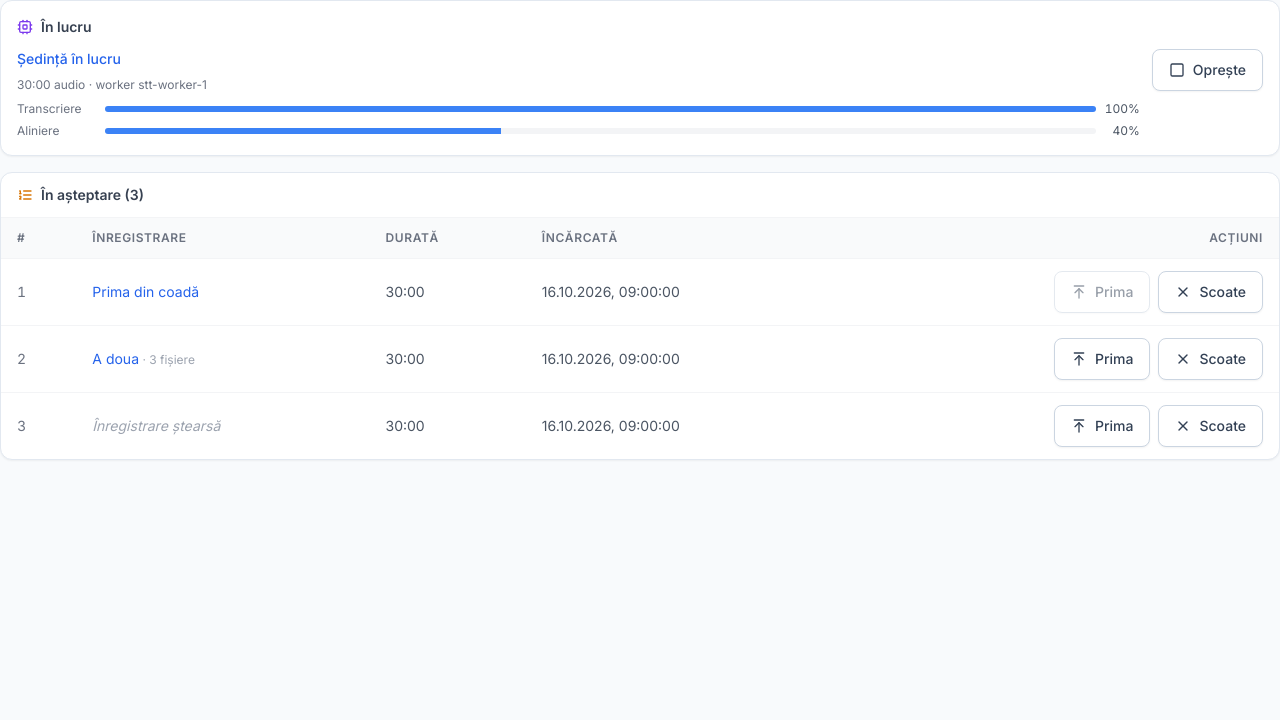
Scenario: QueuePanel › oprește transcrierea în curs după confirmare
What coordinates should you click on to do the following:
click the button "Oprește"
I would click on:
 (1207, 70)
Its box is [1152,49,1263,91].
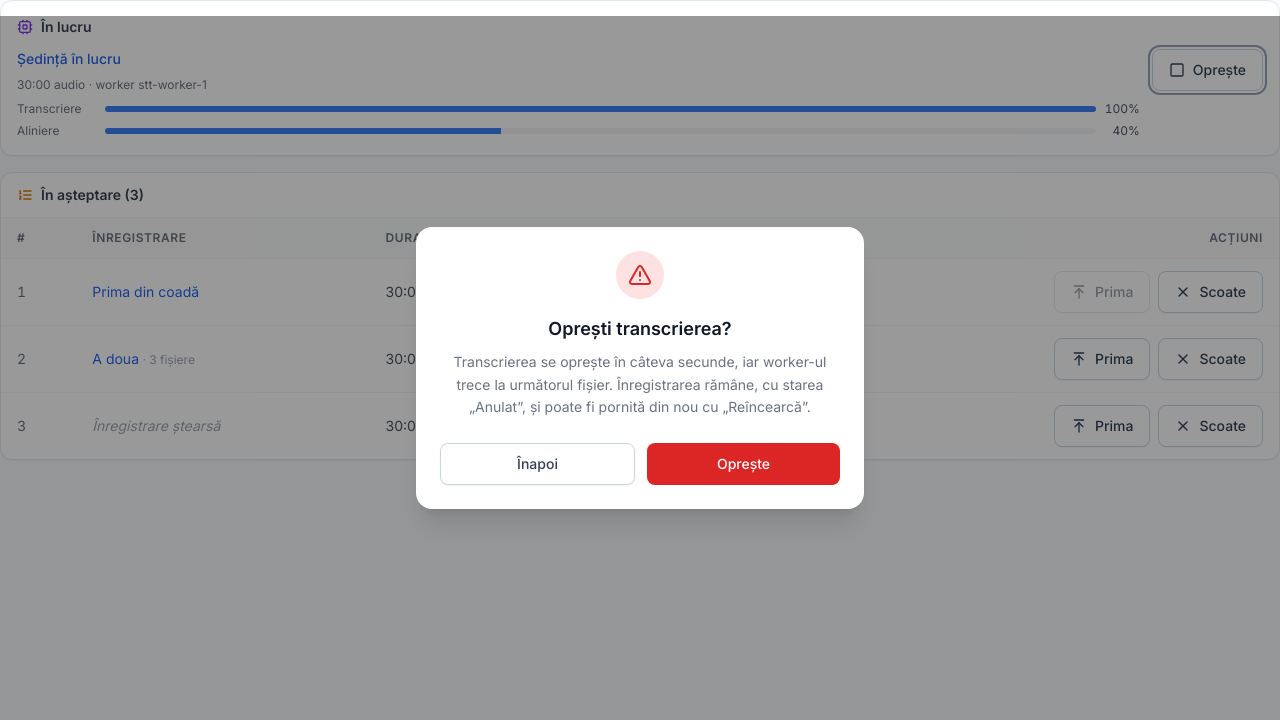
What coordinates should you click on to do the following:
click the button "Oprește"
I would click on:
 (744, 464)
Its box is [647,443,840,485].
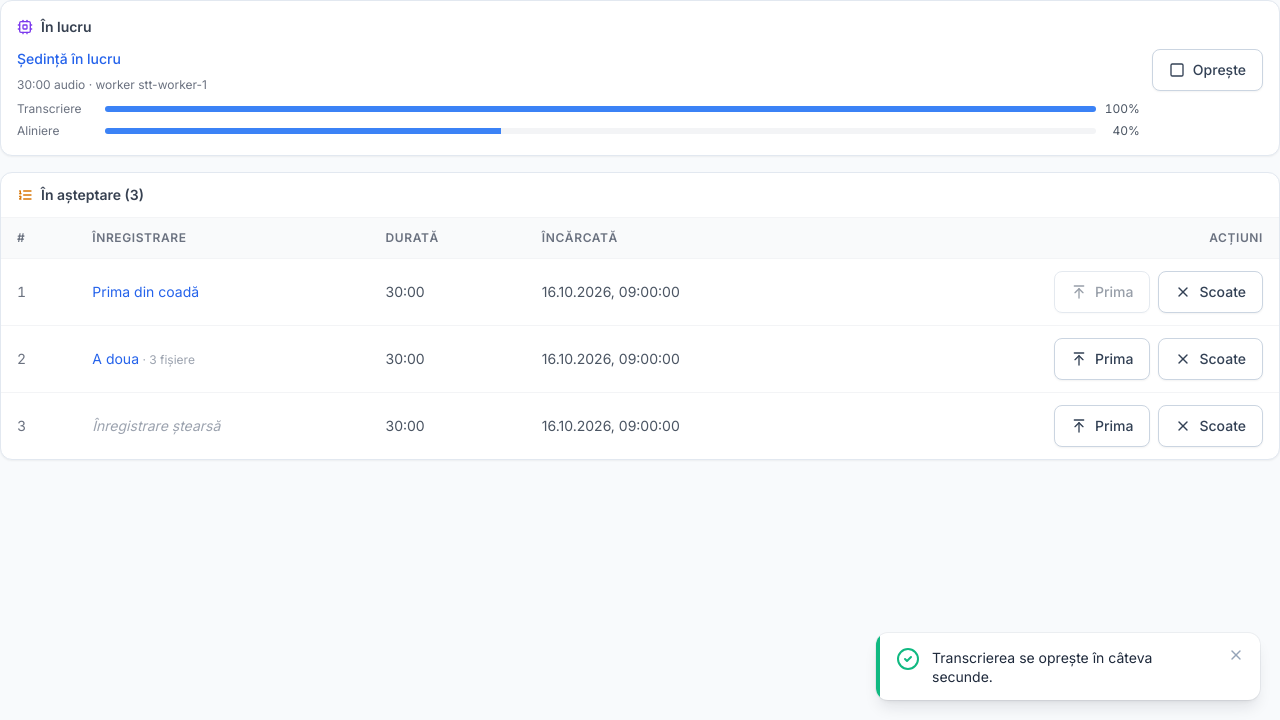
Expected: the text "Transcrierea se oprește în câteva secunde." is shown, [932,648,1152,685]
